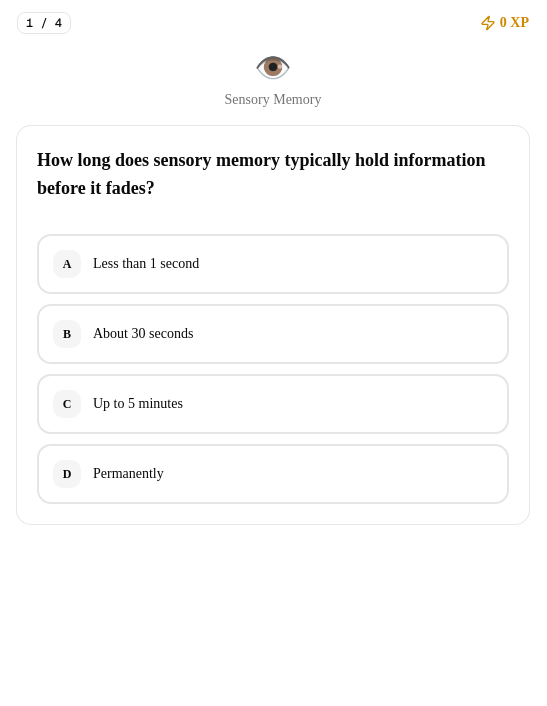
Scenario: QuizView Component › shows explanation after correct answer
Click the text "Less than 1 second". click: (146, 264)
box: left=93, top=256, right=199, bottom=271
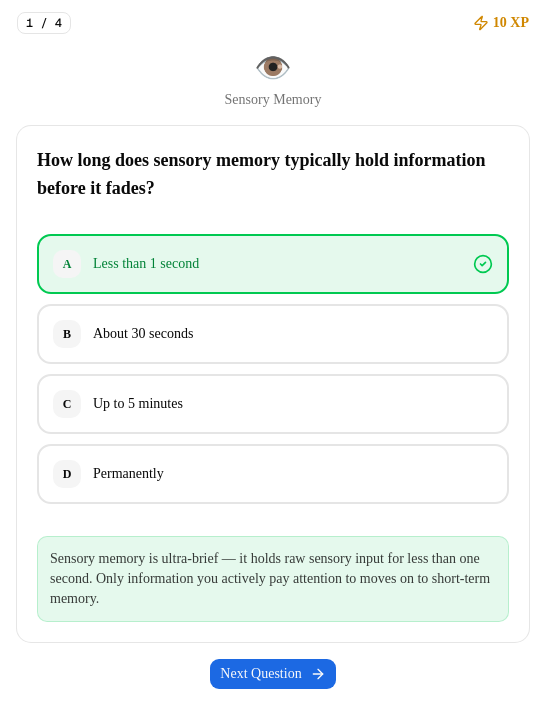
Check: the text "ultra-brief" is shown, box left=50, top=551, right=490, bottom=606
